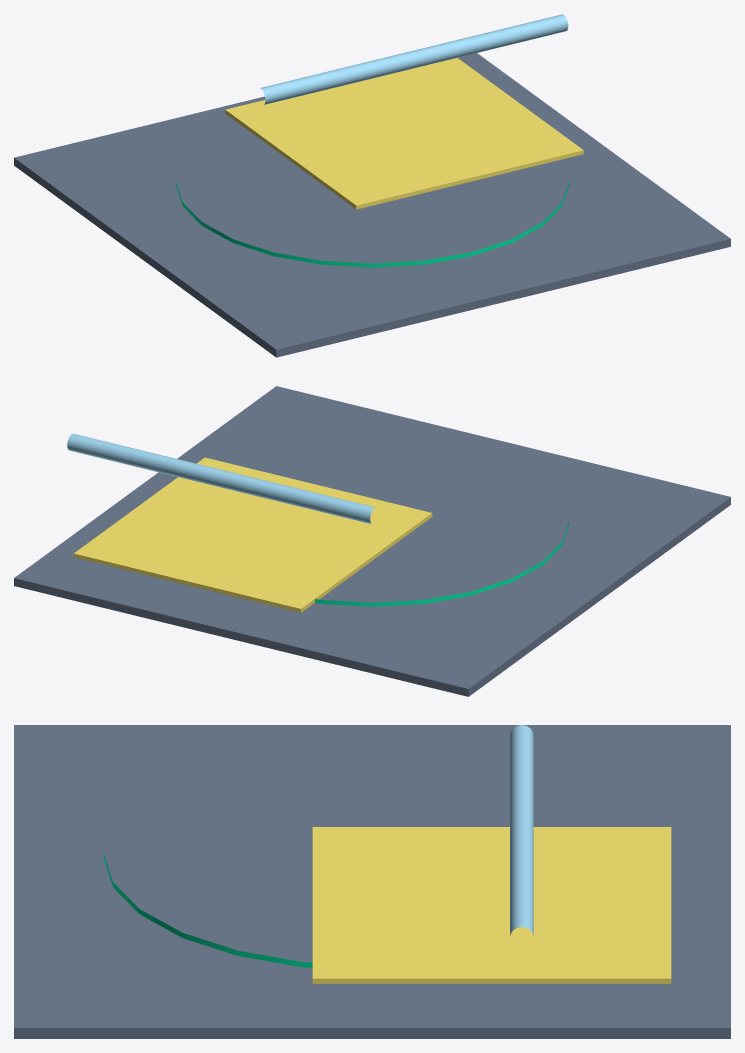
The model's file is complex_numbers_argand_polar.glb.
3 views of the same model, one above another, from view 1: azimuth 30°, elevation 25°; view 2: azimuth 150°, elevation 25°; view 3: azimuth 270°, elevation 25° (orthographic). The views are drawn at different scales.
Parts seen in each view (by area): view 1: ArgandCartesianCoordinatePlane, RealAndImaginaryProjectionArms, ComplexPhasorVectorModulusR, DeMoivresRotationUnitCircleHelix; view 2: ArgandCartesianCoordinatePlane, RealAndImaginaryProjectionArms, ComplexPhasorVectorModulusR, DeMoivresRotationUnitCircleHelix; view 3: ArgandCartesianCoordinatePlane, RealAndImaginaryProjectionArms, ComplexPhasorVectorModulusR, DeMoivresRotationUnitCircleHelix.
Part boxes in pixels (box(x1,y1,x2,y2)): ArgandCartesianCoordinatePlane: box(14, 53, 730, 357); RealAndImaginaryProjectionArms: box(225, 58, 583, 209); ComplexPhasorVectorModulusR: box(260, 14, 568, 104); DeMoivresRotationUnitCircleHelix: box(175, 181, 569, 267); ArgandCartesianCoordinatePlane: box(14, 386, 730, 696); RealAndImaginaryProjectionArms: box(73, 457, 432, 612); ComplexPhasorVectorModulusR: box(67, 433, 375, 524); DeMoivresRotationUnitCircleHelix: box(315, 520, 569, 606); ArgandCartesianCoordinatePlane: box(14, 725, 730, 1038); RealAndImaginaryProjectionArms: box(312, 827, 671, 983); ComplexPhasorVectorModulusR: box(510, 725, 533, 936); DeMoivresRotationUnitCircleHelix: box(103, 853, 312, 967).
Bounding box in the file's own units: 1.25 × 0.23 × 1.2.
